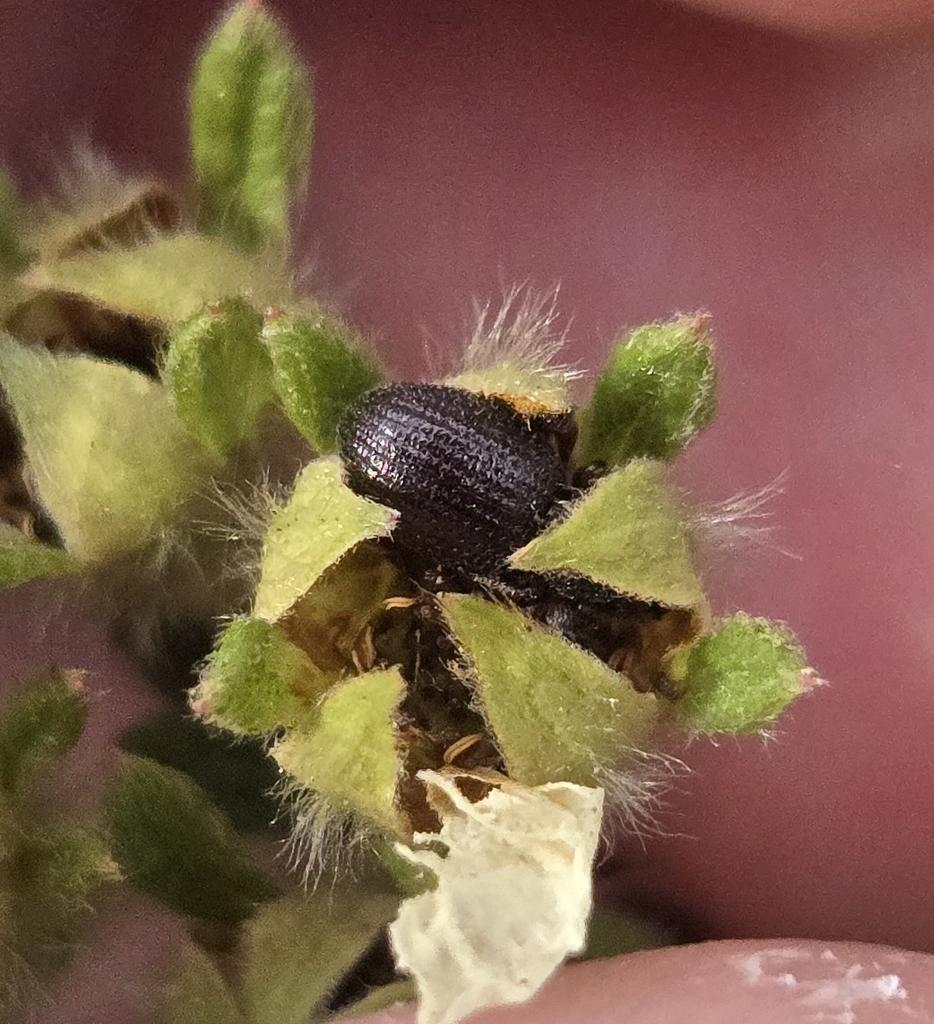weevils: (304, 329, 689, 669)
